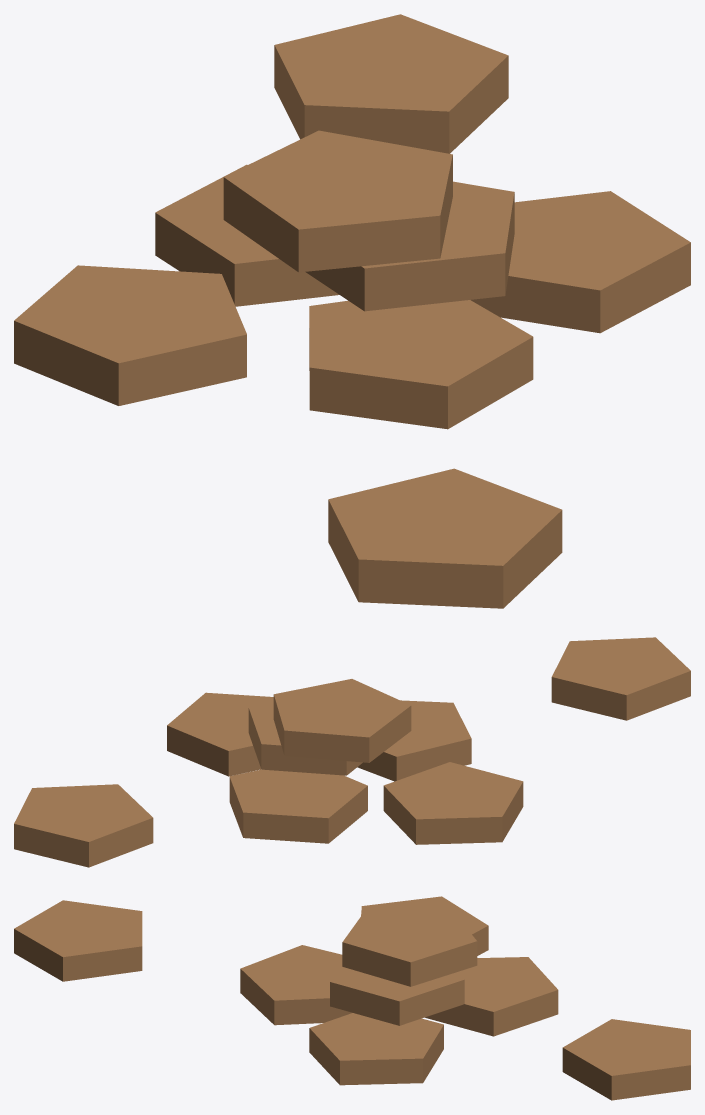
Rendered from CoinPile1.fbx.
The picture shows the model from 3 angles, top to bottom: view 1: azimuth 30°, elevation 25°; view 2: azimuth 150°, elevation 25°; view 3: azimuth 270°, elevation 25°; orthographic projection. The views are drawn at different scales.
Parts seen in each view (by area): view 1: CoinPile1; view 2: CoinPile1; view 3: CoinPile1.
Part boxes in pixels (box(x1,y1,x2,y2)): CoinPile1: box(14, 14, 690, 608); CoinPile1: box(14, 637, 690, 867); CoinPile1: box(14, 896, 690, 1100).
Bounding box in the file's own units: 0.3612 × 0.5753 × 0.0691.
